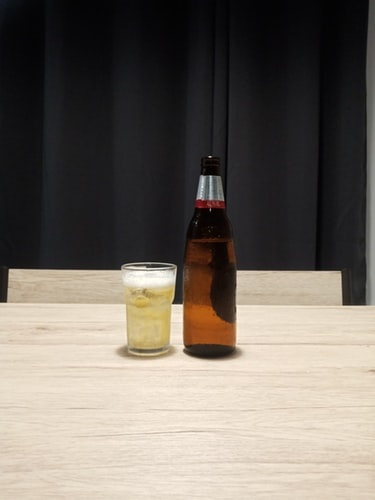whiskey: (117, 260, 182, 358)
